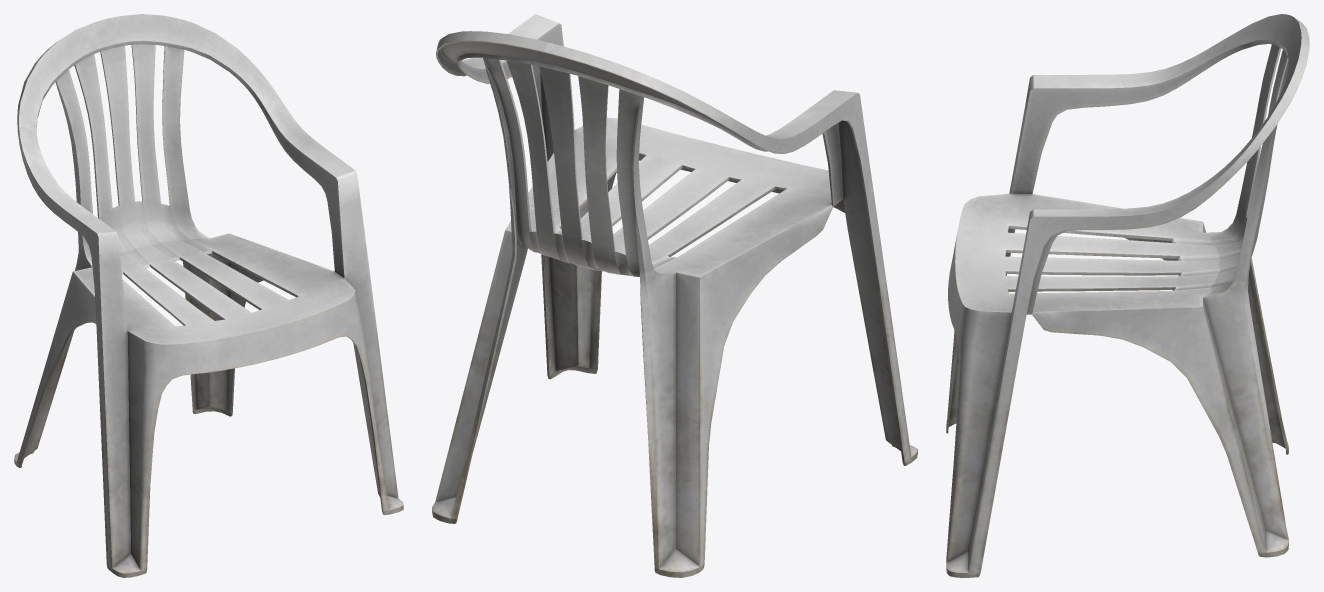
The model's file is MonoblocChair.obj.
3 views of the same model, side by side, from view 1: azimuth 30°, elevation 25°; view 2: azimuth 150°, elevation 25°; view 3: azimuth 270°, elevation 25° (orthographic). The views are drawn at different scales.
Parts seen in each view (by area): view 1: Plastic; view 2: Plastic; view 3: Plastic.
Part boxes in pixels (bbox=[...]): Plastic: bbox=[14, 14, 403, 577]; Plastic: bbox=[432, 14, 917, 577]; Plastic: bbox=[946, 14, 1309, 577].
Size of the model in its own units: 0.6418 by 0.8798 by 0.6276.
Materials: 1 (1 with a texture image).
